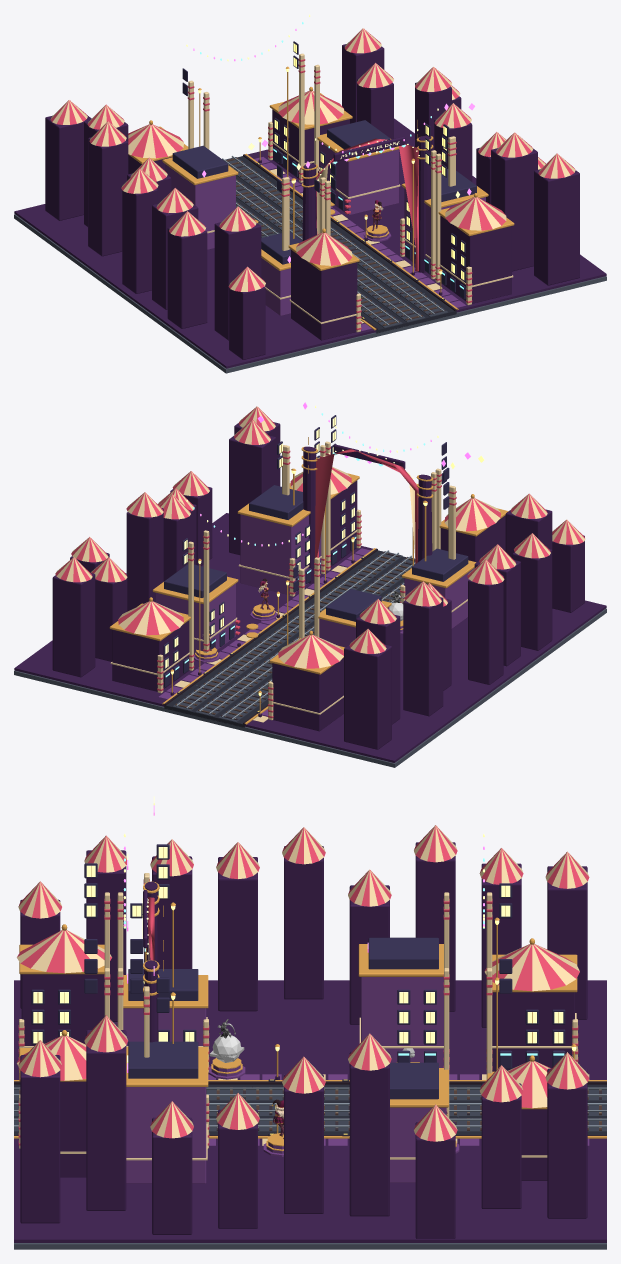
File: 04_Jester_After_Dark.glb
The picture shows the model from 3 angles, top to bottom: view 1: azimuth 30°, elevation 25°; view 2: azimuth 150°, elevation 25°; view 3: azimuth 270°, elevation 25°; orthographic projection. The views are drawn at different scales.
Parts seen in each view (by area): view 1: 04_Jester_After_Dark · plum, 04_Jester_After_Dark · cream, 04_Jester_After_Dark · pink, 04_Jester_After_Dark · violet, District_Gate, 04_Jester_After_Dark · nightglass, 04_Jester_After_Dark · gold, 04_Jester_After_Dark · stone, 04_Jester_After_Dark · dirt, 04_Jester_After_Dark · ballast, 04_Jester_After_Dark · tie, 04_Jester_After_Dark · steel (+4 smaller); view 2: 04_Jester_After_Dark · plum, 04_Jester_After_Dark · cream, 04_Jester_After_Dark · pink, 04_Jester_After_Dark · violet, 04_Jester_After_Dark · nightglass, District_Gate, 04_Jester_After_Dark · gold, 04_Jester_After_Dark · stone, 04_Jester_After_Dark · dirt, 04_Jester_After_Dark · ballast, 04_Jester_After_Dark · tie, 04_Jester_After_Dark · steel (+4 smaller); view 3: 04_Jester_After_Dark · plum, 04_Jester_After_Dark · cream, 04_Jester_After_Dark · pink, 04_Jester_After_Dark · violet, 04_Jester_After_Dark · nightglass, 04_Jester_After_Dark · gold, 04_Jester_After_Dark · dirt, District_Gate, 04_Jester_After_Dark · stone, 04_Jester_After_Dark · lamp, 04_Jester_After_Dark · steel, 04_Jester_After_Dark · ballast (+2 smaller).
Part boxes in pixels (x1,y1,x2,y2): 04_Jester_After_Dark · plum: [14, 44, 606, 368]; 04_Jester_After_Dark · cream: [51, 28, 575, 332]; 04_Jester_After_Dark · pink: [50, 28, 575, 330]; 04_Jester_After_Dark · violet: [165, 141, 485, 330]; District_Gate: [248, 103, 474, 272]; 04_Jester_After_Dark · nightglass: [172, 41, 476, 299]; 04_Jester_After_Dark · gold: [128, 44, 514, 330]; 04_Jester_After_Dark · stone: [225, 157, 448, 328]; 04_Jester_After_Dark · dirt: [14, 214, 606, 373]; 04_Jester_After_Dark · ballast: [236, 156, 456, 333]; 04_Jester_After_Dark · tie: [226, 157, 440, 325]; 04_Jester_After_Dark · steel: [222, 155, 444, 324]; 04_Jester_After_Dark · plum: [14, 422, 606, 762]; 04_Jester_After_Dark · cream: [55, 406, 585, 722]; 04_Jester_After_Dark · pink: [55, 406, 584, 718]; 04_Jester_After_Dark · violet: [155, 514, 474, 715]; 04_Jester_After_Dark · nightglass: [163, 415, 468, 687]; District_Gate: [257, 416, 484, 583]; 04_Jester_After_Dark · gold: [109, 418, 508, 724]; 04_Jester_After_Dark · stone: [172, 551, 415, 722]; 04_Jester_After_Dark · dirt: [14, 608, 606, 767]; 04_Jester_After_Dark · ballast: [164, 550, 405, 727]; 04_Jester_After_Dark · tie: [175, 555, 415, 716]; 04_Jester_After_Dark · steel: [176, 550, 415, 719]; 04_Jester_After_Dark · plum: [14, 842, 606, 1242]; 04_Jester_After_Dark · cream: [17, 825, 589, 1160]; 04_Jester_After_Dark · pink: [17, 825, 589, 1145]; 04_Jester_After_Dark · violet: [123, 977, 589, 1183]; 04_Jester_After_Dark · nightglass: [31, 863, 565, 1099]; 04_Jester_After_Dark · gold: [14, 866, 606, 1151]; 04_Jester_After_Dark · dirt: [14, 1243, 606, 1249]; District_Gate: [142, 796, 175, 1057]; 04_Jester_After_Dark · stone: [14, 1090, 606, 1132]; 04_Jester_After_Dark · lamp: [33, 833, 576, 1109]; 04_Jester_After_Dark · steel: [14, 1087, 606, 1126]; 04_Jester_After_Dark · ballast: [14, 1084, 606, 1134].
Size of the model in its own units: 56.36 by 24.81 by 54.
23 materials, 2 textured.
